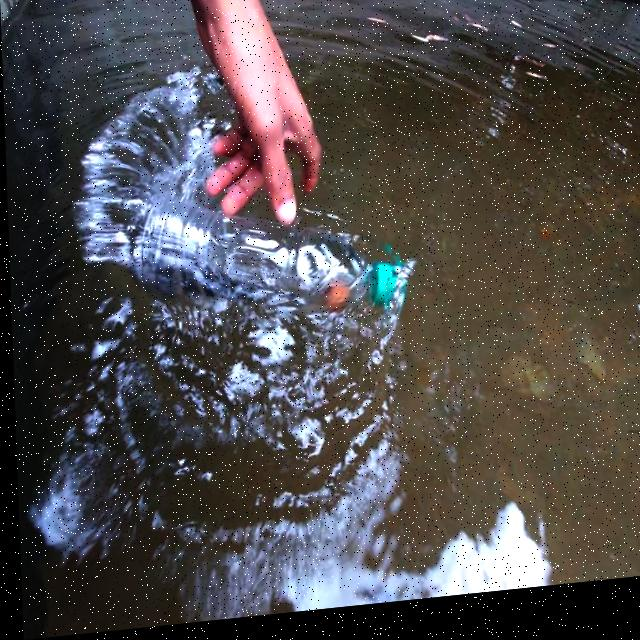waterbottle: (123, 165, 419, 366)
